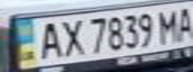3: (121, 11, 142, 50)
7: (84, 15, 109, 54)
8: (106, 12, 124, 51)
9: (136, 10, 157, 47)
A: (33, 18, 63, 61), (172, 3, 193, 42)
M: (154, 7, 184, 44)
X: (57, 16, 87, 57)
